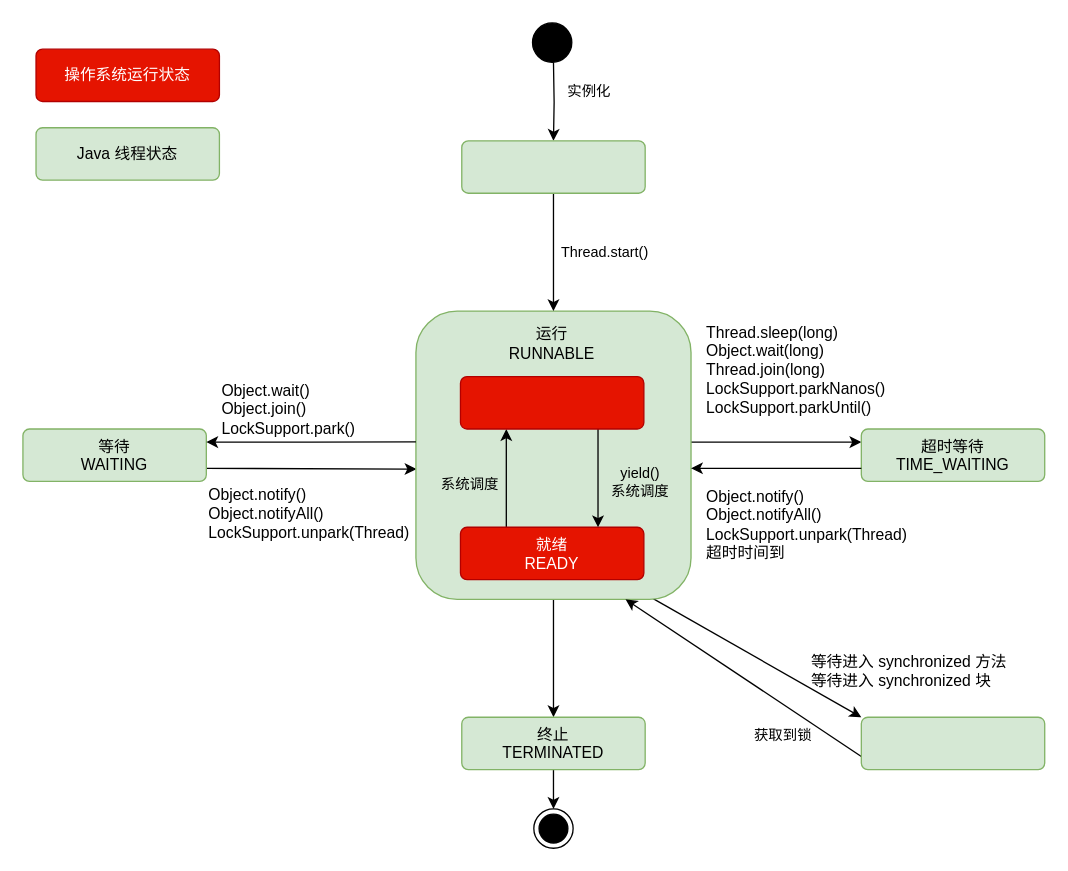
This 1068x871 diagram has some shape labels left out. The shapes that lost their labels are listed below. From the top down, each one's centre as x and y in pixels, then its label:
the point at 552,166: 初始 NEW
the point at 551,402: 运行中 RUNNING
the point at 952,743: 阻塞 BLOCKED
